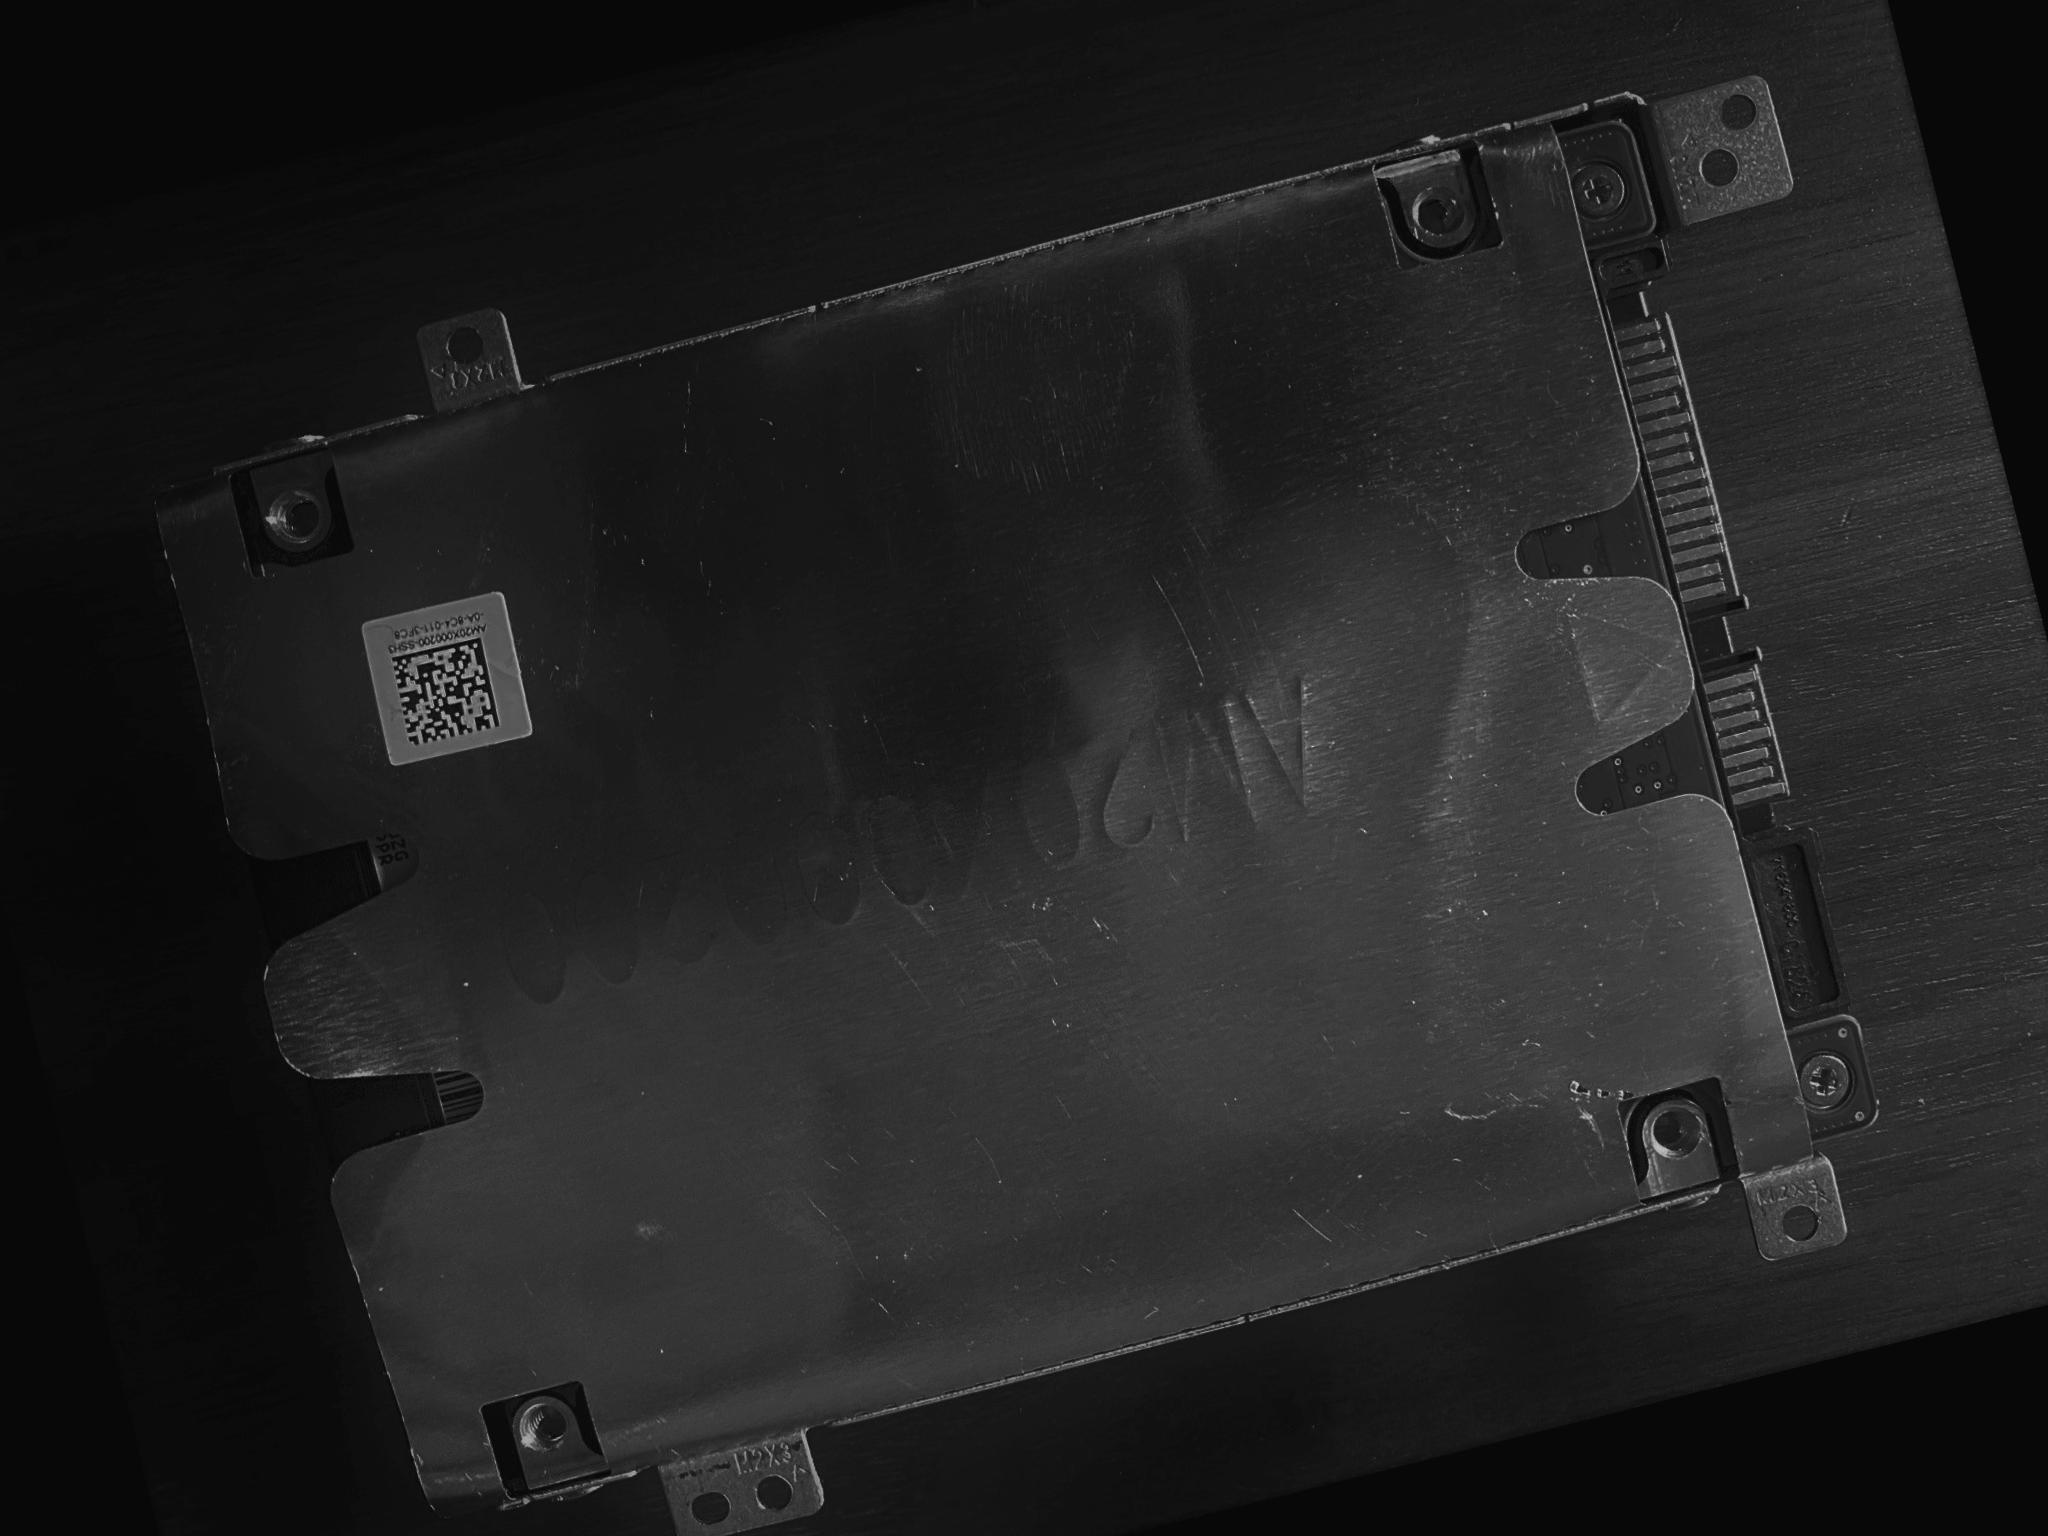philips-PZ: (1559, 153, 1634, 229), (1792, 1047, 1861, 1115)
